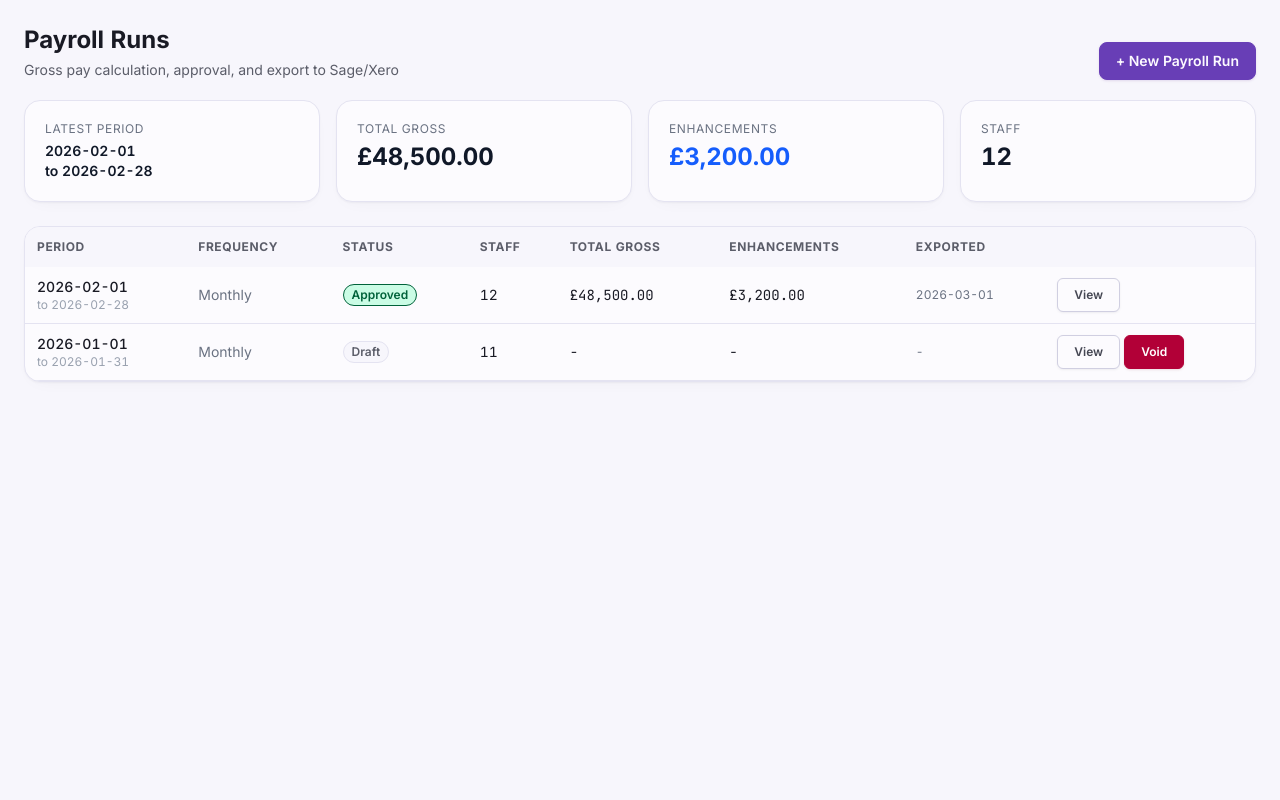
Test: PayrollDashboard › shows a form error instead of silently returning on invalid run dates
Expected: the text "Approved" is shown, left=342, top=284, right=417, bottom=306
Click the button "+ New Payroll Run": click(1177, 61) left=1099, top=42, right=1256, bottom=80
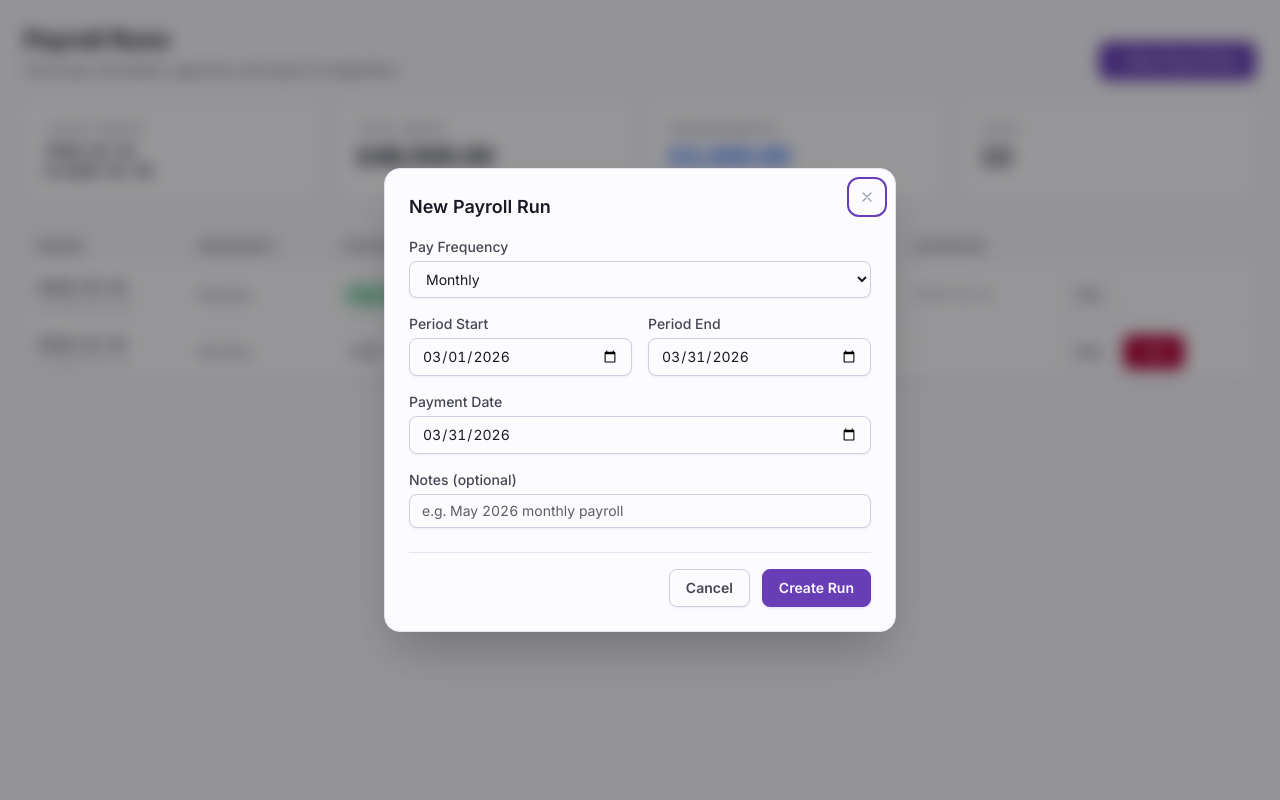
In the date field labelled "Period Start": (520, 357) left=409, top=338, right=632, bottom=376, type "2026-04-30"
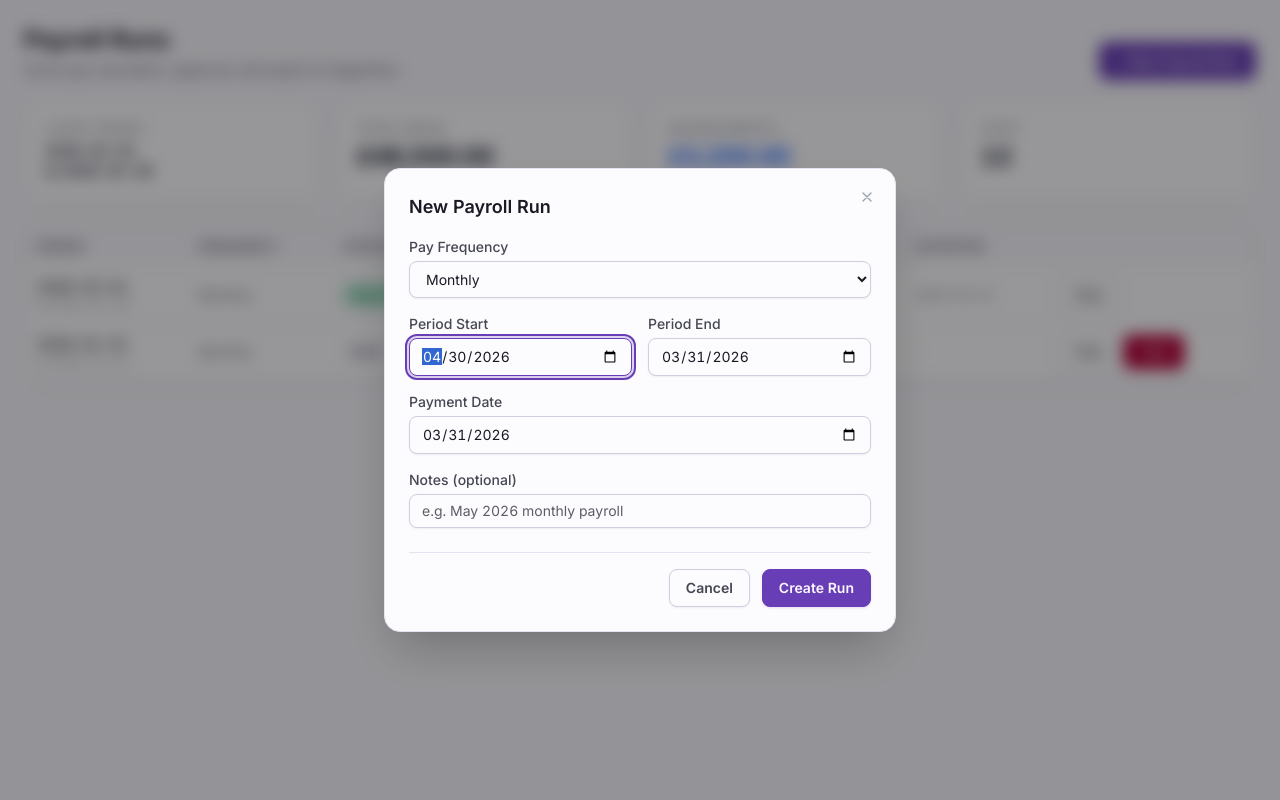
In the date field labelled "Period End": (760, 357) left=648, top=338, right=871, bottom=376, type "2026-04-01"
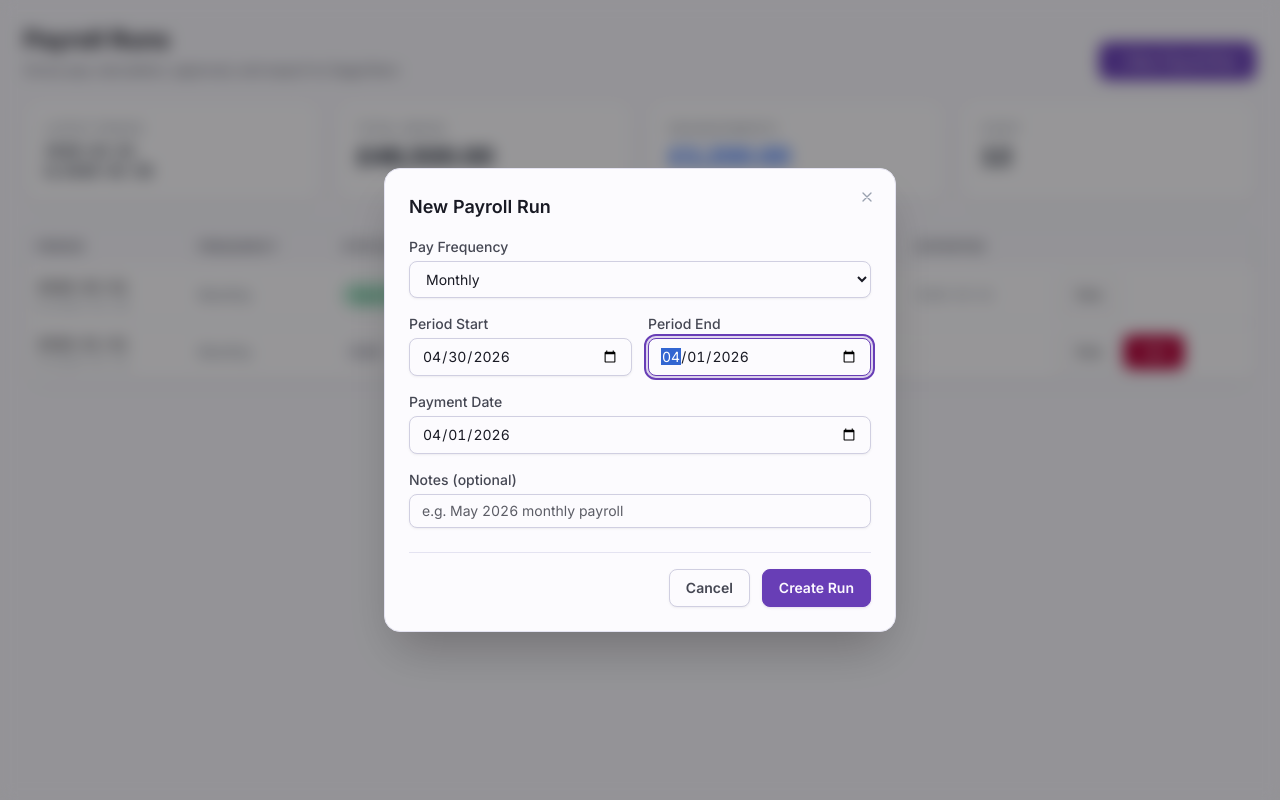
Click the button "Create Run": click(816, 588) left=762, top=569, right=871, bottom=607
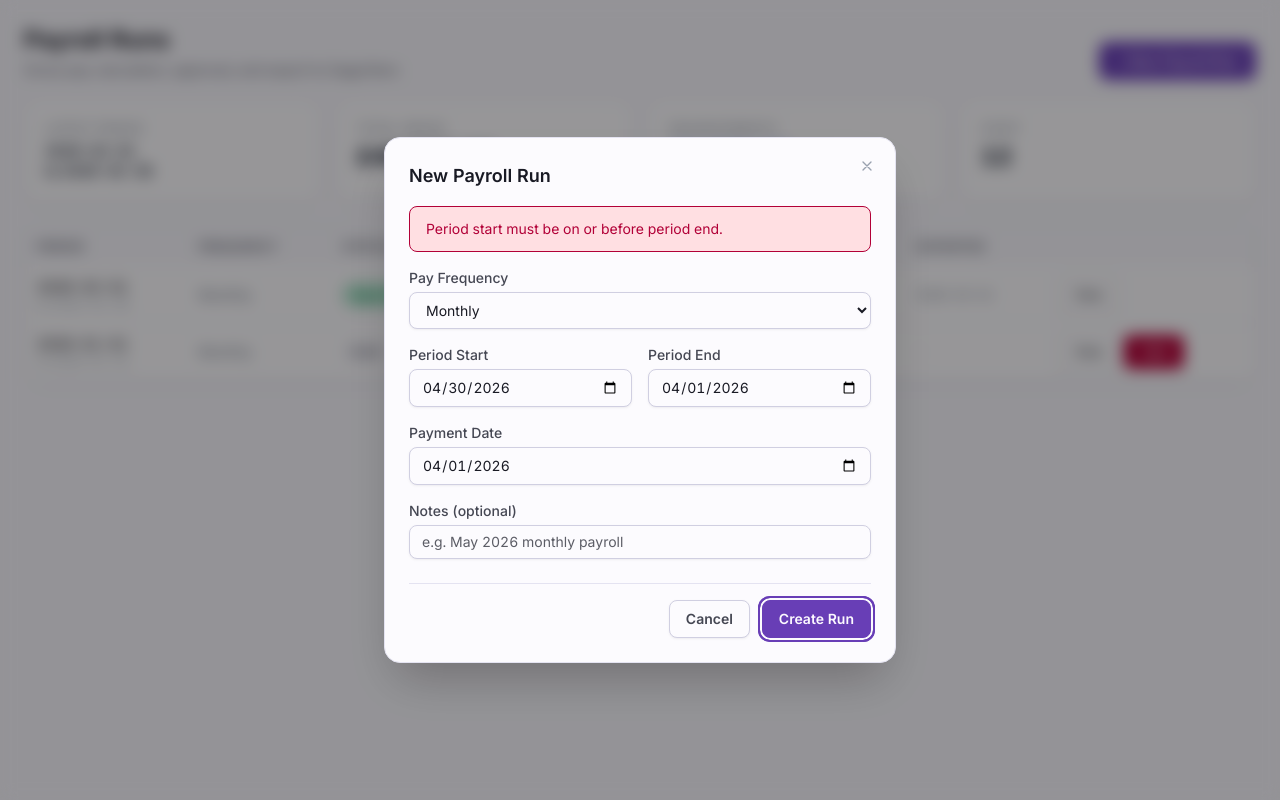
Now the text "Period start must be on or before period end." is shown, box left=426, top=219, right=723, bottom=239
